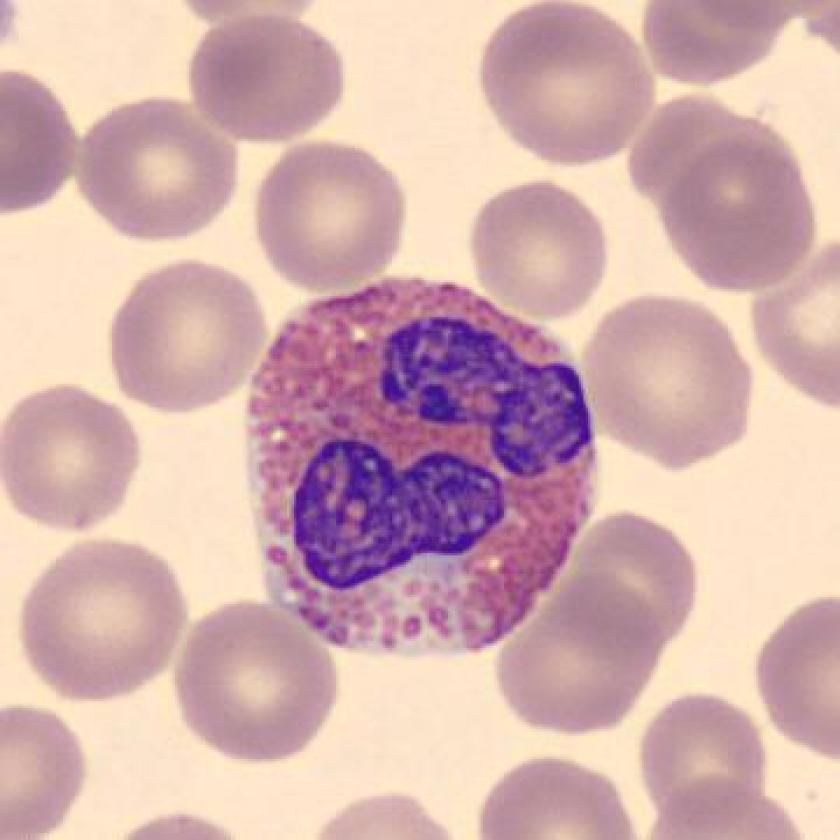eosinophil: (228, 265, 613, 670)
